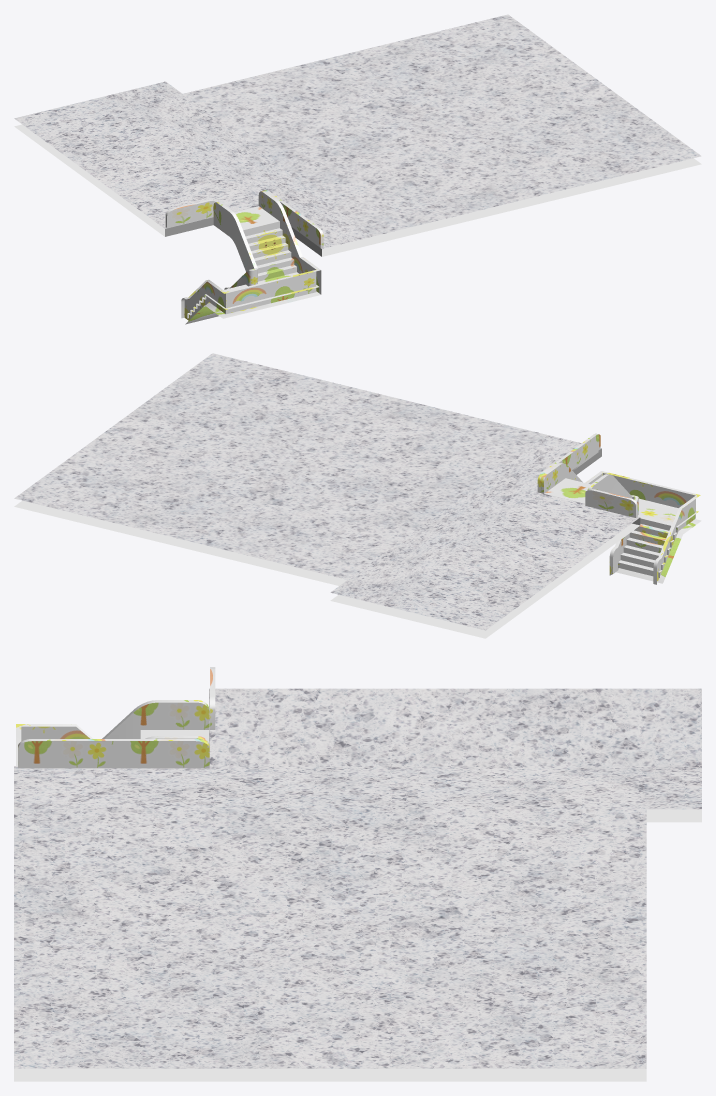
The model's file is pet_shop_refair.fbx.
The picture shows the model from 3 angles, top to bottom: view 1: azimuth 30°, elevation 25°; view 2: azimuth 150°, elevation 25°; view 3: azimuth 270°, elevation 25°; orthographic projection. The views are drawn at different scales.
Parts seen in each view (by area): view 1: 2F_Floor, stair, 1F_Ceiling, stair_2, stair_3, 2F_Floor.001; view 2: 2F_Floor, stair, 1F_Ceiling, stair_2, stair_3; view 3: 2F_Floor, 1F_Ceiling, stair_3, stair.
Part boxes in pixels (<box>): 2F_Floor: <box>14,14,701,248</box>; stair: <box>181,190,321,324</box>; 1F_Ceiling: <box>14,124,701,256</box>; stair_2: <box>165,199,215,227</box>; stair_3: <box>265,190,323,249</box>; 2F_Floor.001: <box>165,217,321,256</box>; 2F_Floor: <box>14,353,639,630</box>; stair: <box>540,462,701,584</box>; 1F_Ceiling: <box>14,500,639,638</box>; stair_2: <box>585,489,637,517</box>; stair_3: <box>537,433,600,492</box>; 2F_Floor: <box>14,688,701,1068</box>; 1F_Ceiling: <box>14,809,701,1081</box>; stair_3: <box>18,739,209,768</box>; stair: <box>16,700,209,765</box>.
Bounding box in the file's own units: 2257 × 436 × 1723.
